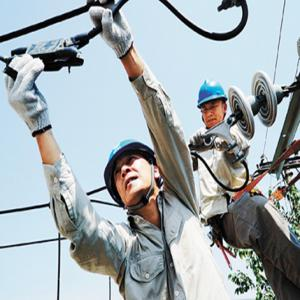blue: (103, 138, 159, 208), (197, 77, 229, 129)
